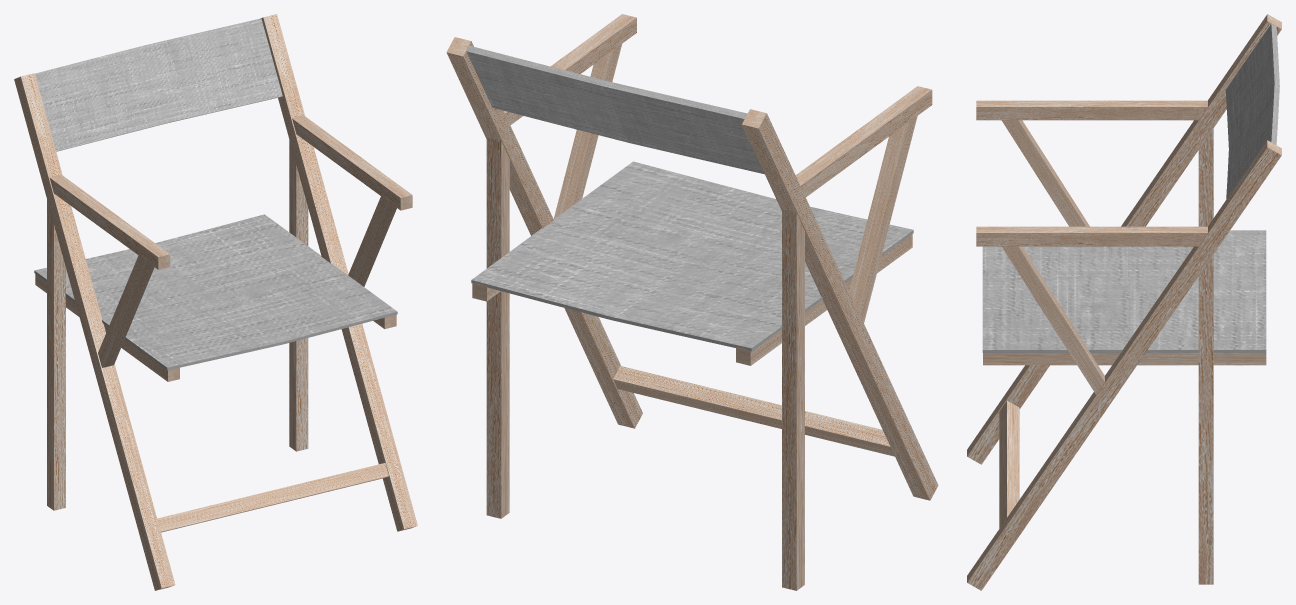
The model's file is LulaChair.glb.
3 views of the same model, side by side, from view 1: azimuth 30°, elevation 25°; view 2: azimuth 150°, elevation 25°; view 3: azimuth 270°, elevation 25° (orthographic). The views are drawn at different scales.
Visible parts, largest first — view 1: Cube.004, Cube.011, Cube.003, Cube.002, Cube.007, Cube.014, Cube.008, Cube.005, Cube.006, Cube.012, Cube.013, Cube.010; view 2: Cube.004, Cube.011, Cube.003, Cube.007, Cube.008, Cube.002, Cube.014, Cube.012, Cube.006, Cube.013, Cube.005, Cube.010; view 3: Cube.004, Cube.002, Cube.003, Cube.011, Cube.008, Cube.005, Cube.006, Cube.013, Cube.009, Cube.012, Cube.014, Cube.007.
Part boxes in pixels (x1,y1,x2,y2): Cube.004: (34, 214, 397, 370); Cube.011: (35, 18, 282, 151); Cube.003: (14, 73, 175, 590); Cube.002: (261, 14, 417, 531); Cube.007: (47, 180, 65, 510); Cube.014: (157, 463, 388, 532); Cube.008: (289, 140, 308, 451); Cube.005: (292, 115, 412, 210); Cube.006: (49, 174, 170, 269); Cube.012: (98, 255, 154, 367); Cube.013: (348, 196, 396, 286); Cube.010: (35, 274, 179, 381); Cube.004: (471, 161, 913, 351); Cube.011: (466, 45, 764, 174); Cube.003: (742, 109, 938, 500); Cube.007: (782, 186, 804, 590); Cube.008: (486, 137, 509, 518); Cube.002: (446, 37, 642, 428); Cube.014: (613, 366, 894, 456); Cube.012: (849, 116, 917, 322); Cube.006: (795, 86, 932, 197); Cube.013: (553, 44, 621, 219); Cube.005: (504, 14, 636, 125); Cube.010: (736, 234, 912, 365); Cube.004: (982, 230, 1266, 352); Cube.002: (967, 140, 1281, 590); Cube.003: (967, 14, 1281, 464); Cube.011: (1225, 24, 1279, 198); Cube.008: (1198, 236, 1213, 584); Cube.005: (976, 226, 1207, 246); Cube.006: (976, 100, 1207, 120); Cube.013: (1002, 246, 1104, 394); Cube.009: (983, 353, 1266, 365); Cube.012: (1001, 120, 1089, 226); Cube.014: (999, 401, 1019, 528); Cube.007: (1198, 109, 1213, 226).
Size of the model in its own units: 0.5566 by 0.8639 by 0.5554.
3 materials, 3 textured.
